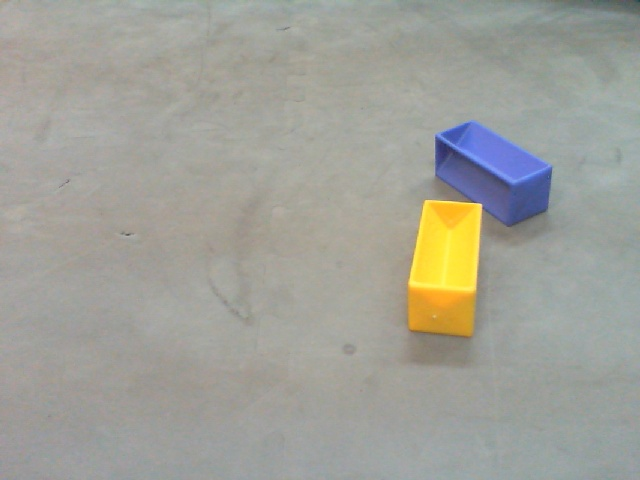BlueSample: (431, 121, 553, 226)
YellowSample: (405, 200, 484, 342)
